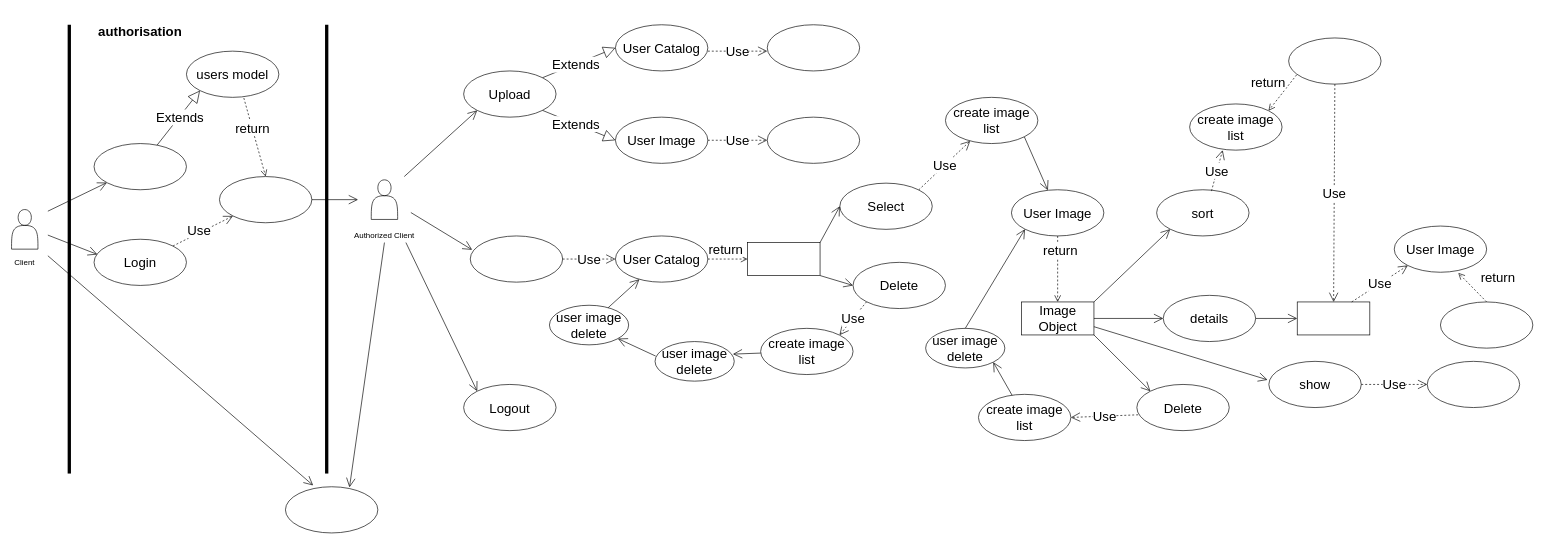
This 1544x545 diagram has some shape labels left out. The shapes that lost their labels are listed below. From the top down, each one's centre as x and y in pixels, then its label:
point 813,47: UserCatalog Model
point 1334,60: sort images
point 813,139: UserImage Model
point 139,166: Sign up
point 265,199: authenticate
point 516,258: Catalog
point 783,259: Catalog Object
point 1333,318: Metadata
point 1486,324: get metadata from jpg
point 1473,384: image viewer
point 331,509: Home page
